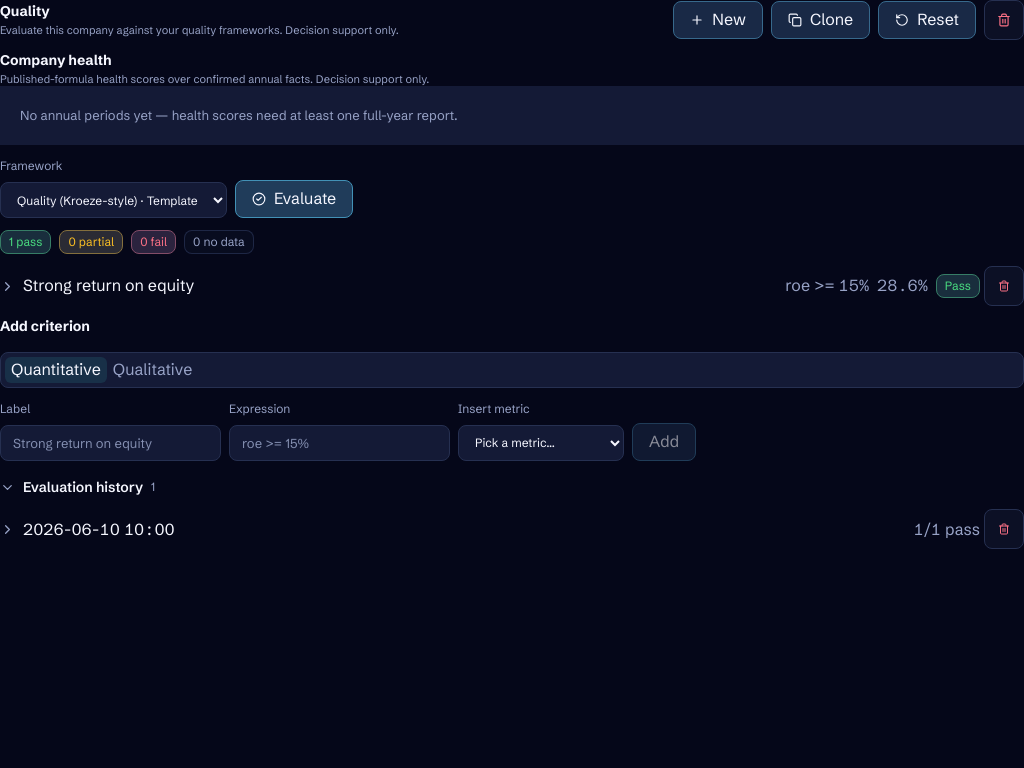
Test: QualityPanel › formats the measured value AND threshold through the format layer (ADR 0076, card 619c8d9)
Expected: the text "28.6%" is shown, [877,274,928,298]
Note: Expand the row to reveal the measured / threshold detail line.
Step 1. Click the button with aria-label "Strong return on equity — Pass" → coordinates (109, 285), box [0,274,980,298]
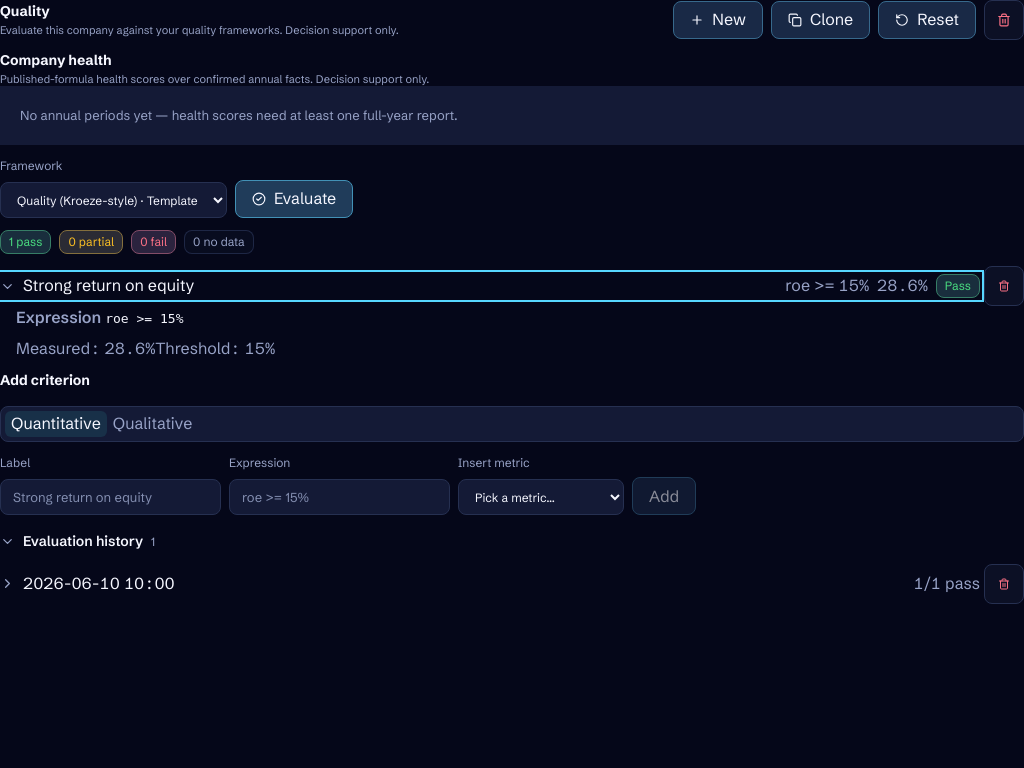
Expected: the text "Threshold: 15%" is shown, [155,338,275,358]
